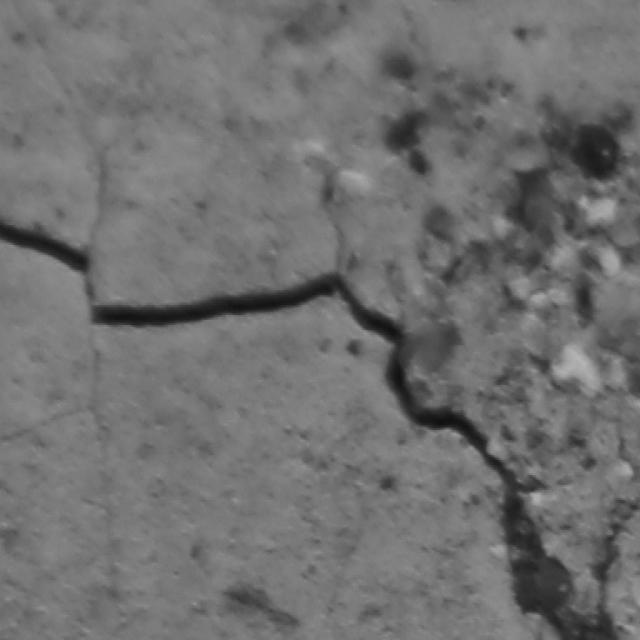SurfaceCrack: (0, 68, 638, 568)
